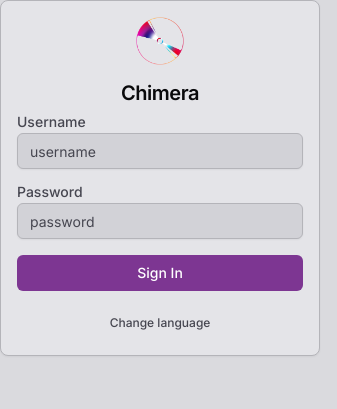
Scenario: a server error code is resolved to its English wording
This screenshot has width=337, height=409.
Step 1. Click the button "Sign In" → click(160, 273), box [17,255,303,291]
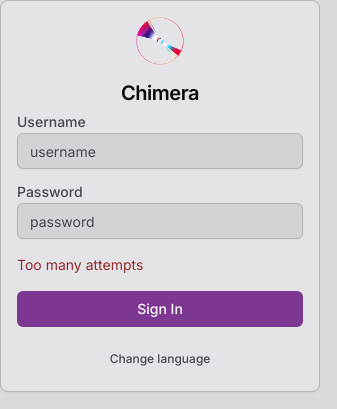
Now the message reads "Too many attempts", box [17,256,143,273]
